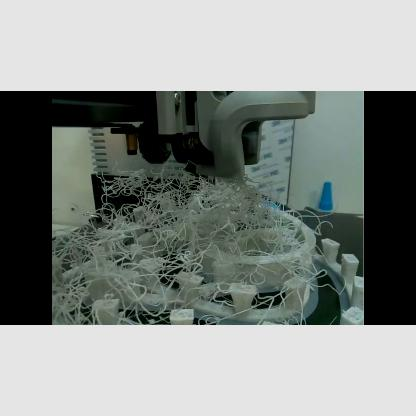fail: (53, 172, 310, 324)
